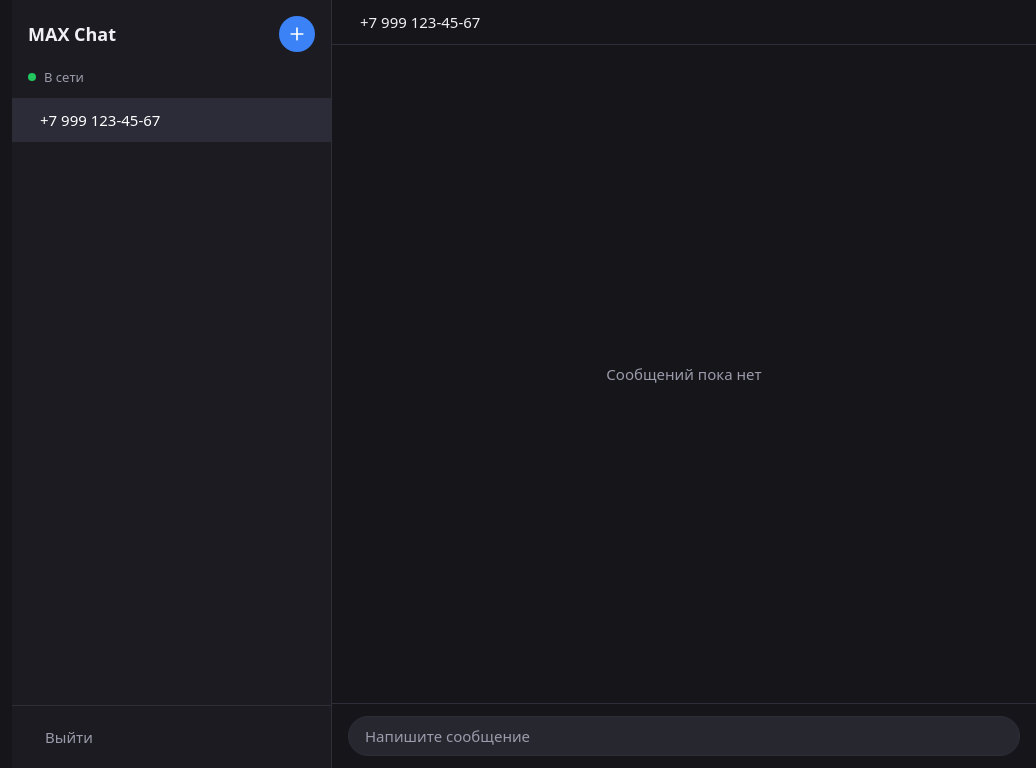
it: ChatPage › sends a message and shows it in the chat and in the list
In the text box labelled "сообщение": (684, 736) x1=348 y1=716 x2=1020 y2=756, type "Привет"
Then press Enter
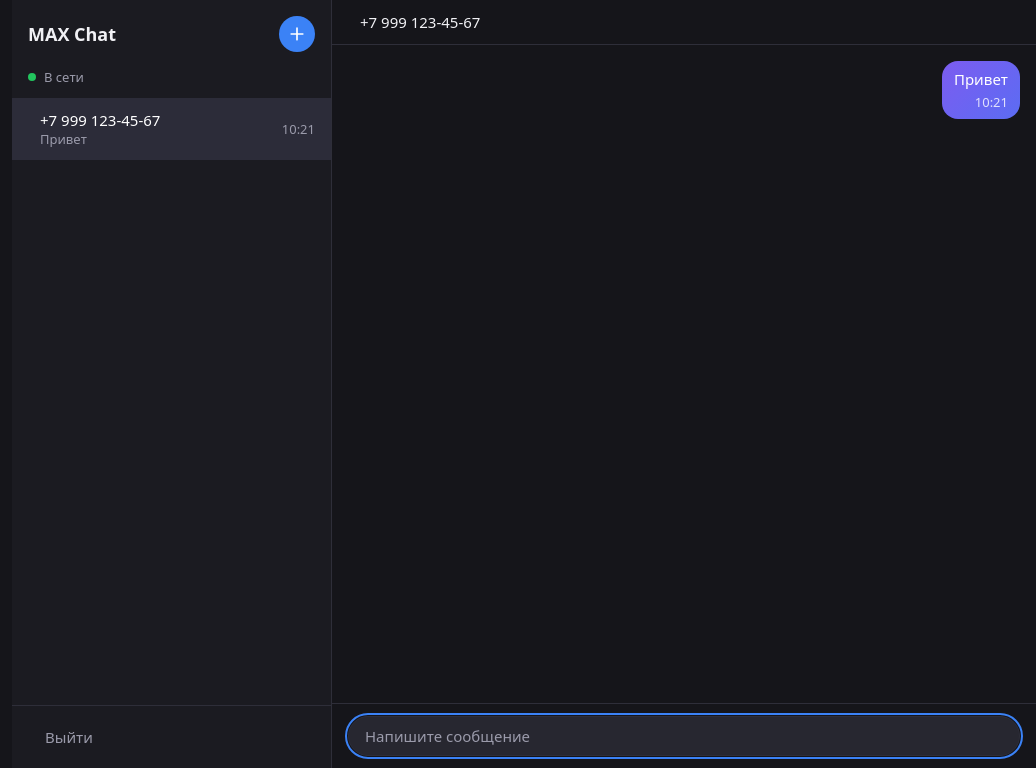
Now the text "Привет" is shown 2 times, box x1=40 y1=130 x2=87 y2=148; x1=954 y1=69 x2=1008 y2=89
